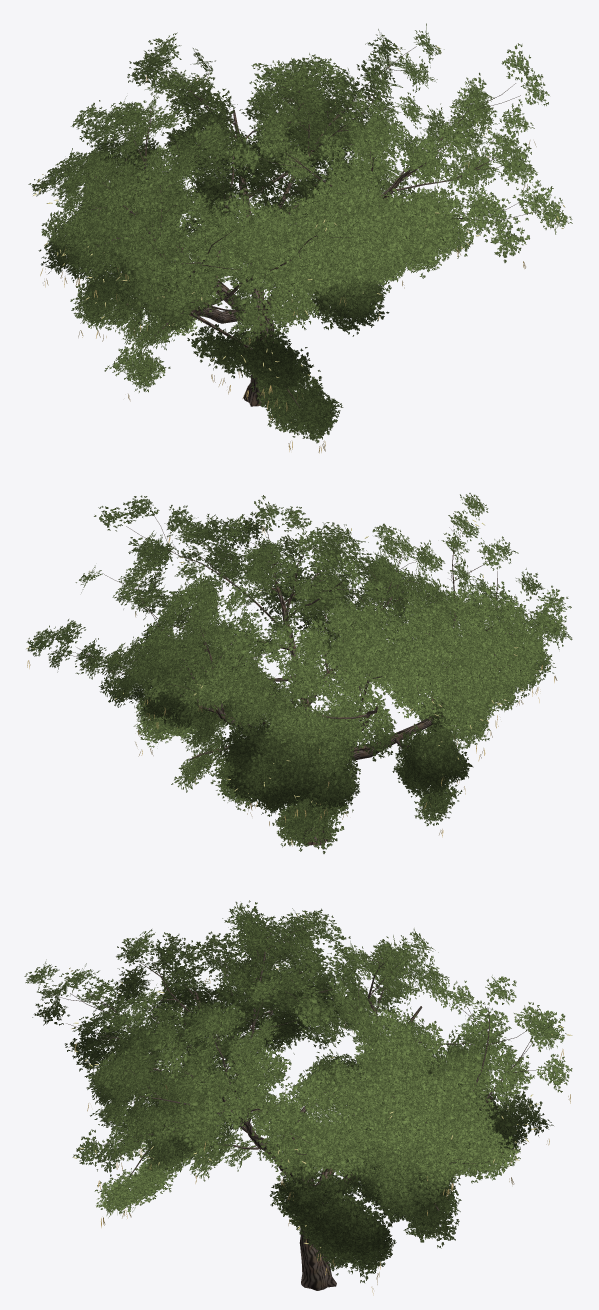
The model's file is adult-c.lod0.glb.
3 views of the same model, one above another, from view 1: azimuth 30°, elevation 25°; view 2: azimuth 150°, elevation 25°; view 3: azimuth 270°, elevation 25° (orthographic). The views are drawn at different scales.
Visible parts, largest first — view 1: foliage, bark, fruit; view 2: foliage, bark, fruit; view 3: foliage, bark, fruit.
Boxes of the visible parts, bbox=[...] form: foliage: bbox=[28, 23, 572, 443]; bark: bbox=[82, 46, 539, 407]; fruit: bbox=[40, 60, 536, 453]; foliage: bbox=[26, 493, 572, 853]; bark: bbox=[51, 514, 540, 845]; fruit: bbox=[27, 527, 557, 846]; foliage: bbox=[24, 900, 572, 1282]; bark: bbox=[50, 922, 535, 1290]; fruit: bbox=[74, 977, 570, 1295].
Bounding box in the file's own units: 12.63 × 7.5 × 12.14.
Materials: 5 (2 with a texture image).
